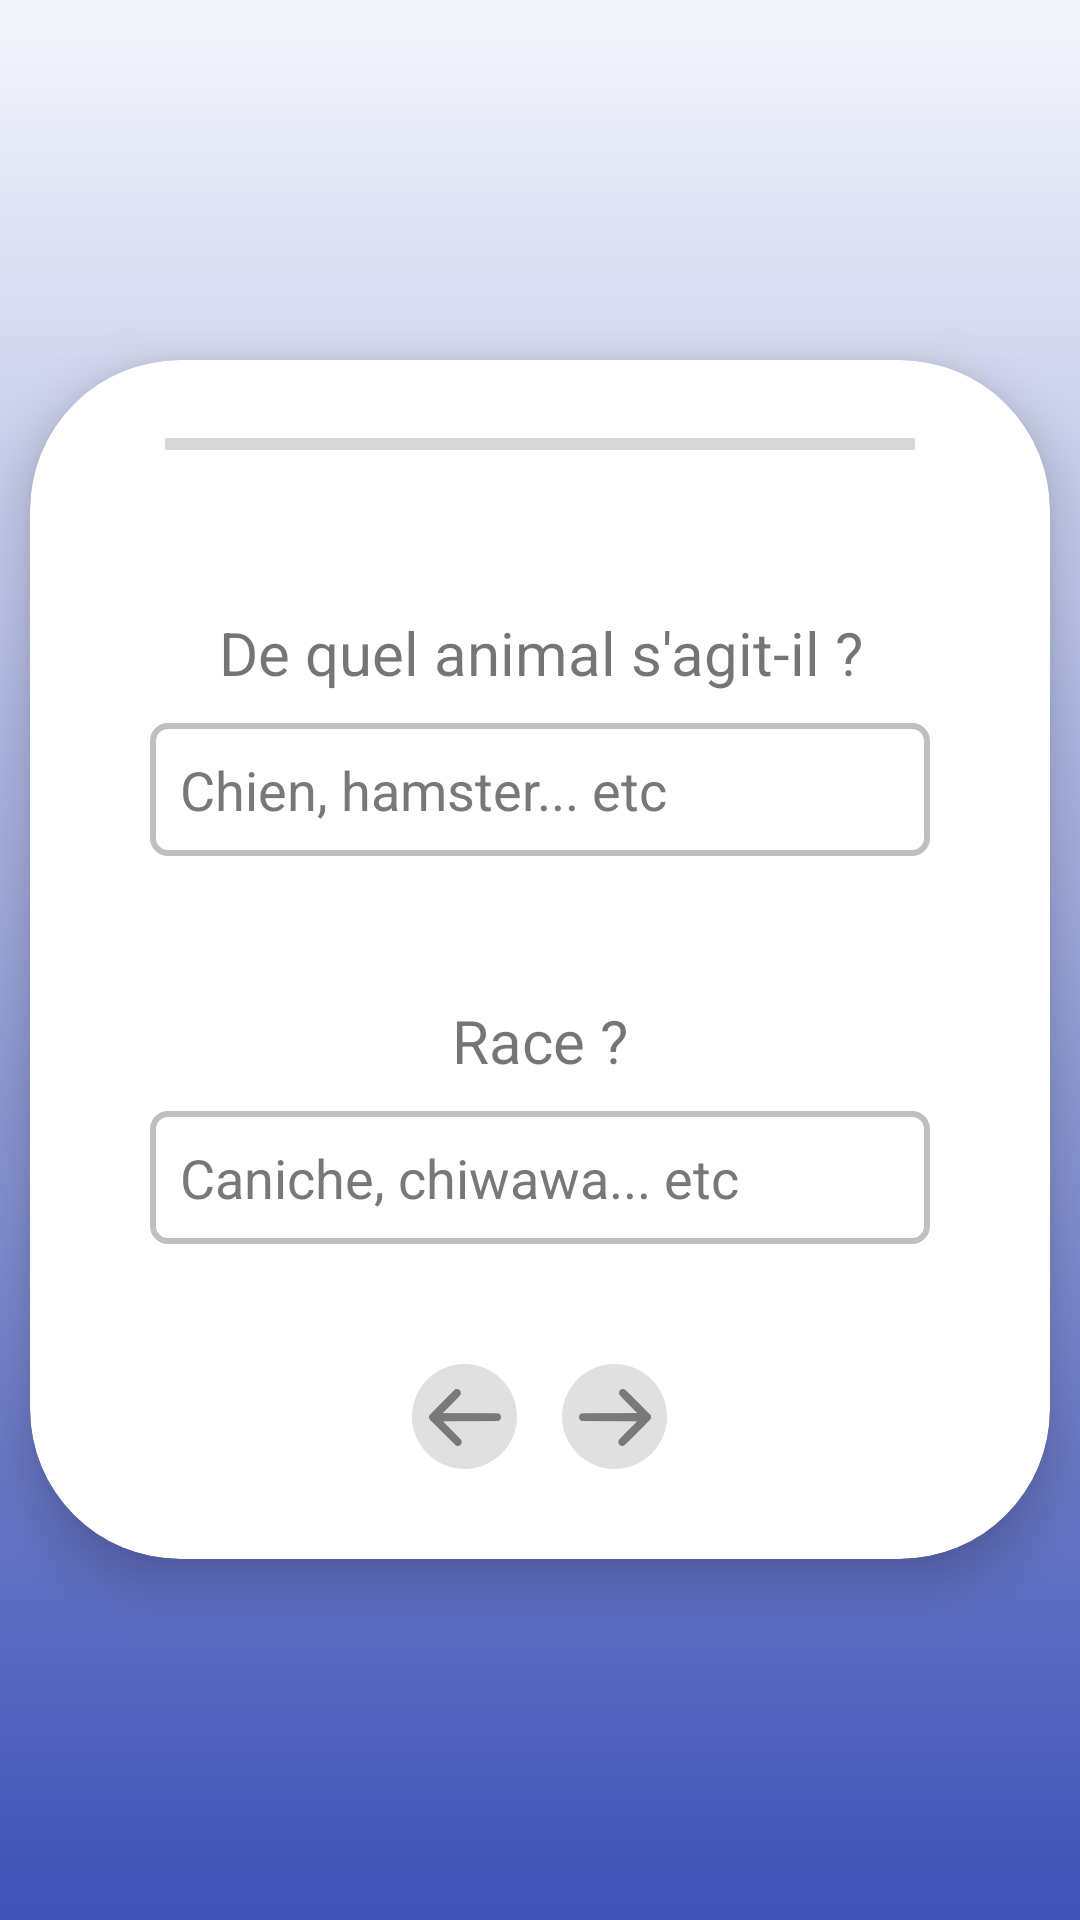

Icons on this 1080w x 1920h Android screen, each with its box as (x1, y1, x2, y2):
arrows left: (412, 1364, 517, 1469)
arrows right: (562, 1364, 667, 1469)
